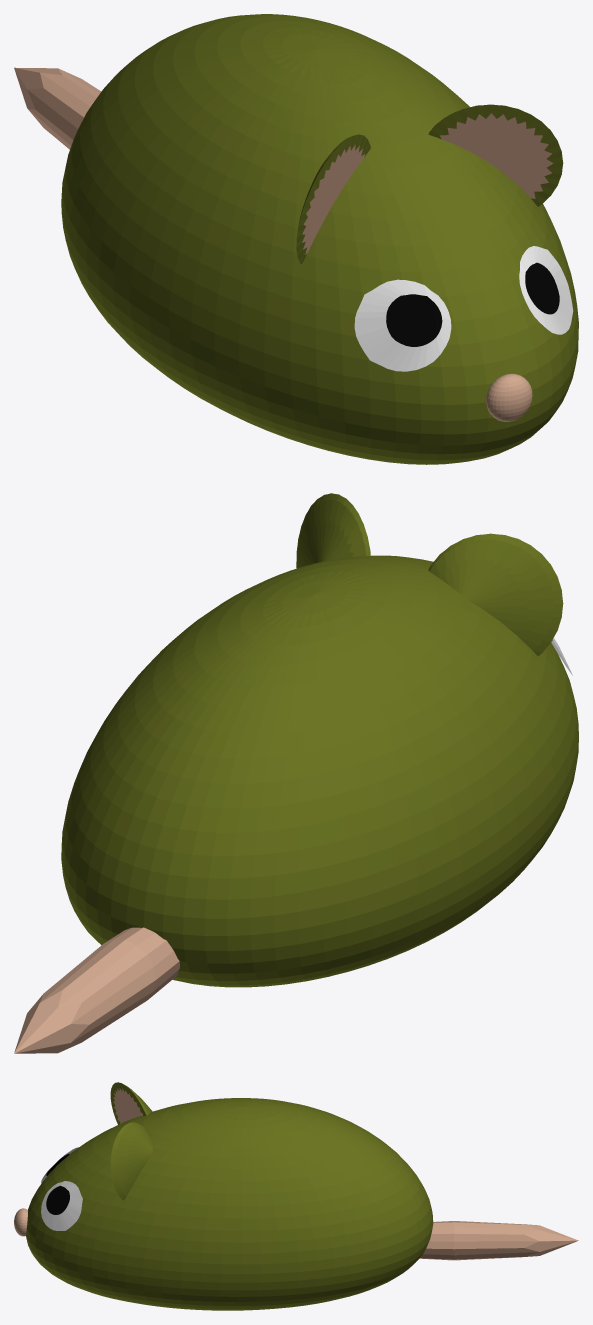
File: ElectricMouse.fbx
3 renders of one model, top to bottom at view 1: azimuth 30°, elevation 25°; view 2: azimuth 150°, elevation 25°; view 3: azimuth 270°, elevation 25°, orthographic. The views are drawn at different scales.
Visible parts, largest first — view 1: Sphere, Cone, Circle, Cylinder, Sphere.001; view 2: Sphere, Cone, Cylinder; view 3: Sphere, Cylinder, Cone, Circle, Sphere.001.
Boxes of the visible parts, bbox=[...] form: Sphere: bbox=[61, 14, 578, 464]; Cone: bbox=[296, 104, 563, 264]; Circle: bbox=[354, 246, 573, 371]; Cylinder: bbox=[14, 67, 101, 149]; Sphere.001: bbox=[486, 373, 532, 421]; Sphere: bbox=[61, 555, 578, 987]; Cone: bbox=[296, 493, 563, 655]; Cylinder: bbox=[14, 927, 179, 1053]; Sphere: bbox=[26, 1098, 433, 1310]; Cylinder: bbox=[419, 1221, 578, 1260]; Cone: bbox=[110, 1082, 152, 1200]; Circle: bbox=[41, 1147, 82, 1230]; Sphere.001: bbox=[14, 1208, 27, 1236].
Size of the model in its own units: 162 by 133 by 381.
